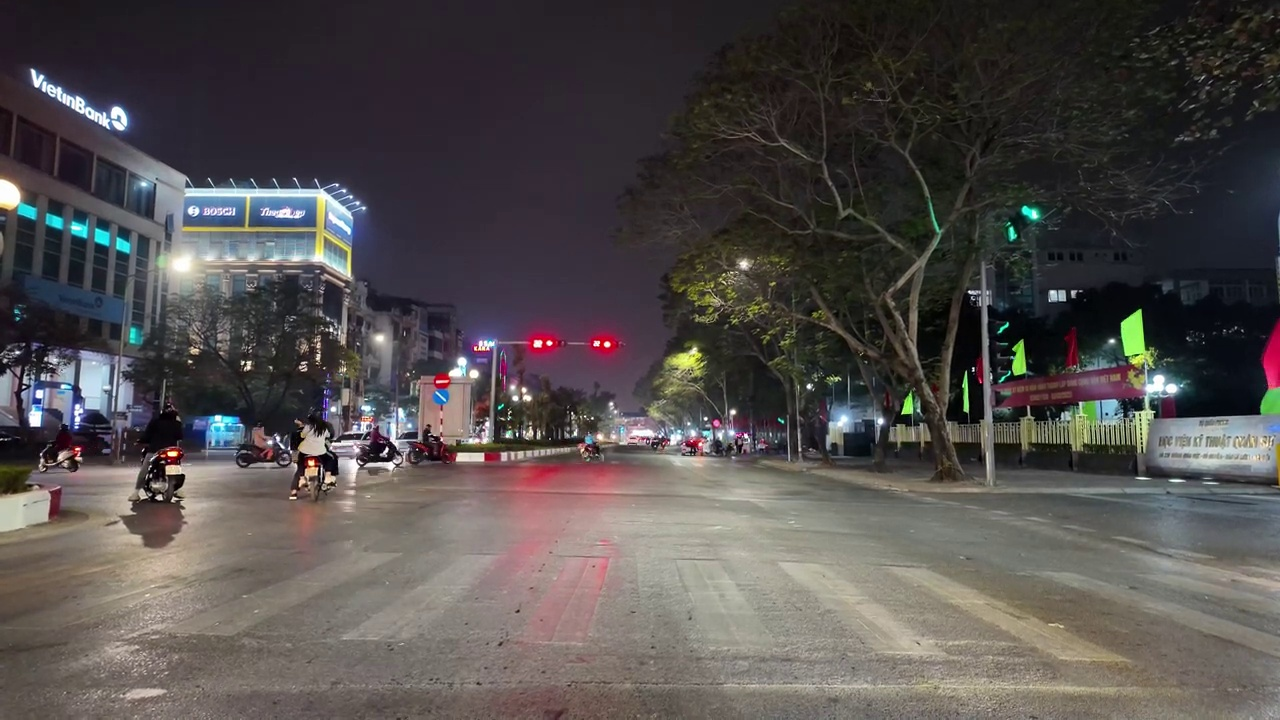acesa: (165, 249, 198, 280), (670, 346, 703, 377), (529, 331, 558, 355), (0, 177, 15, 211)
